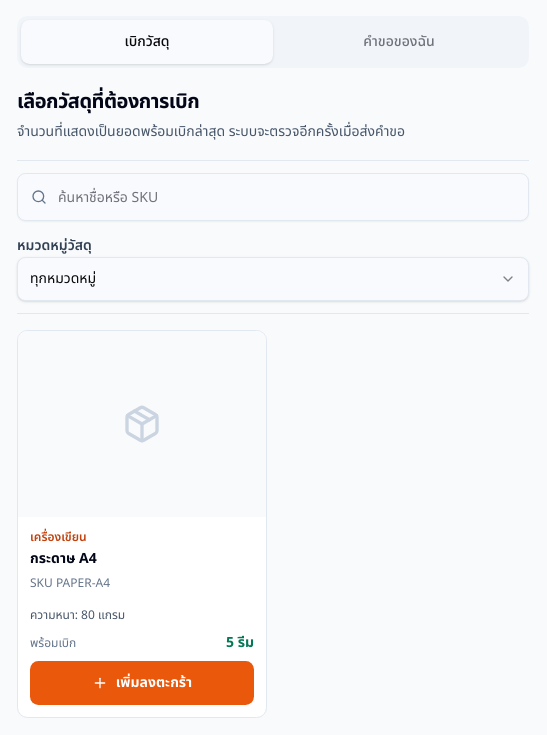
Scenario: LIFF Stock app orchestration › keeps the newest employee request history result
This screenshot has width=547, height=735.
Expected: the heading "กระดาษ A4" is shown, [30,548,97,569]
Press the mouse on the tab "คำขอของฉัน" at (399, 42), box [273,20,525,64]
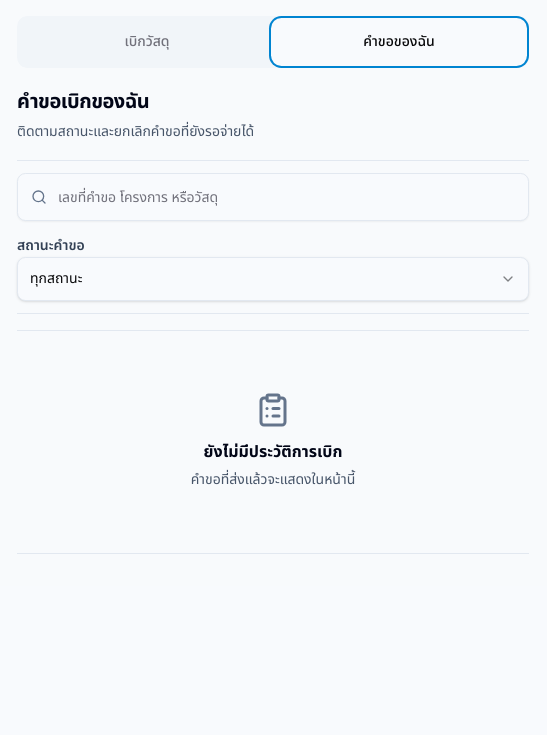
Expected: the heading "ยังไม่มีประวัติการเบิก" is shown, [204,440,342,464]
Type "เก่า" into the search field named "ค้นหาคำขอเบิก" at (273, 197), box [17,173,529,221]
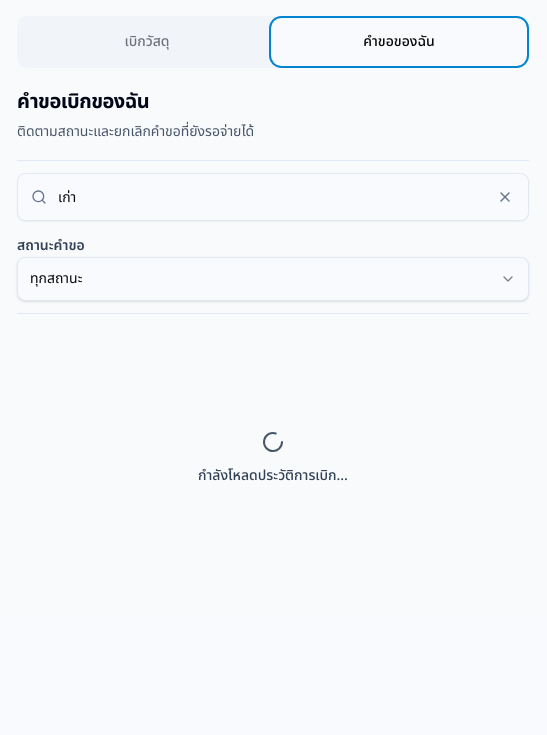
Replace the text in the search field named "ค้นหาคำขอเบิก" with "ใหม่" at (273, 197), box [17,173,529,221]
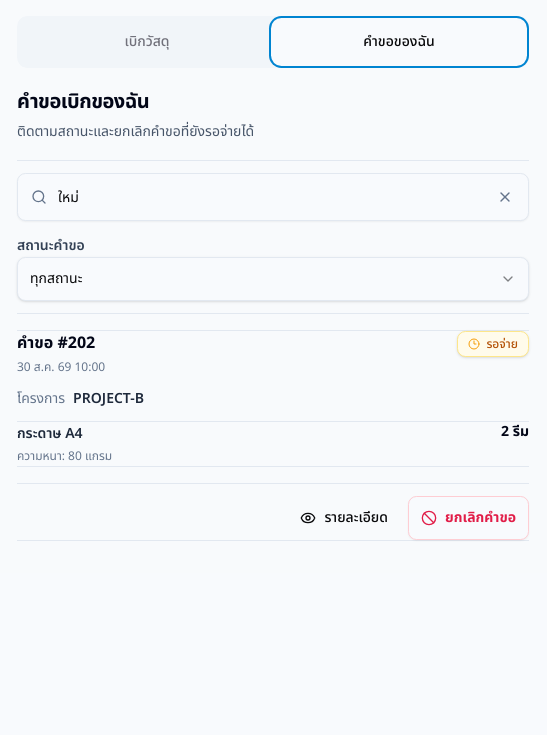
Expected: the text "PROJECT-B" is shown, [73,389,144,409]
